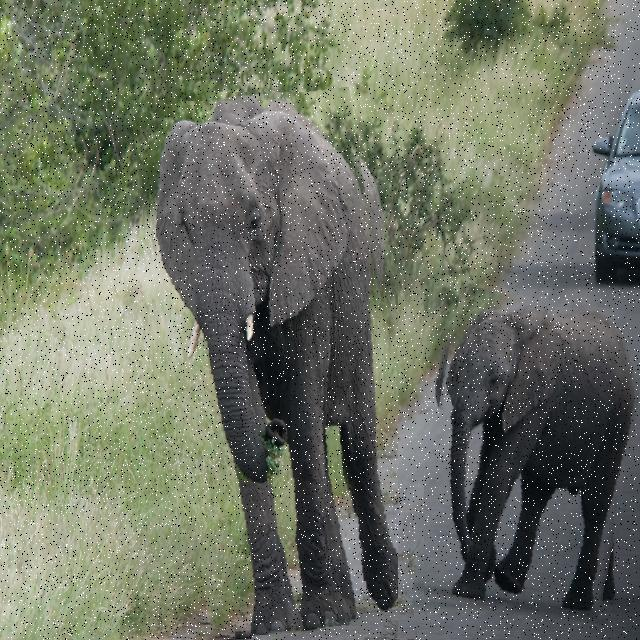elephant: (146, 92, 398, 638), (424, 292, 640, 619)
